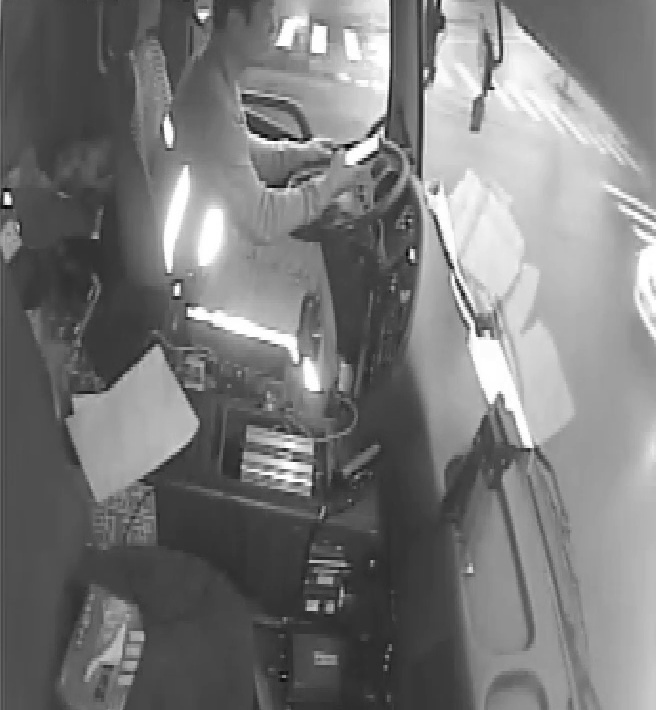cellphone: (329, 129, 383, 172)
